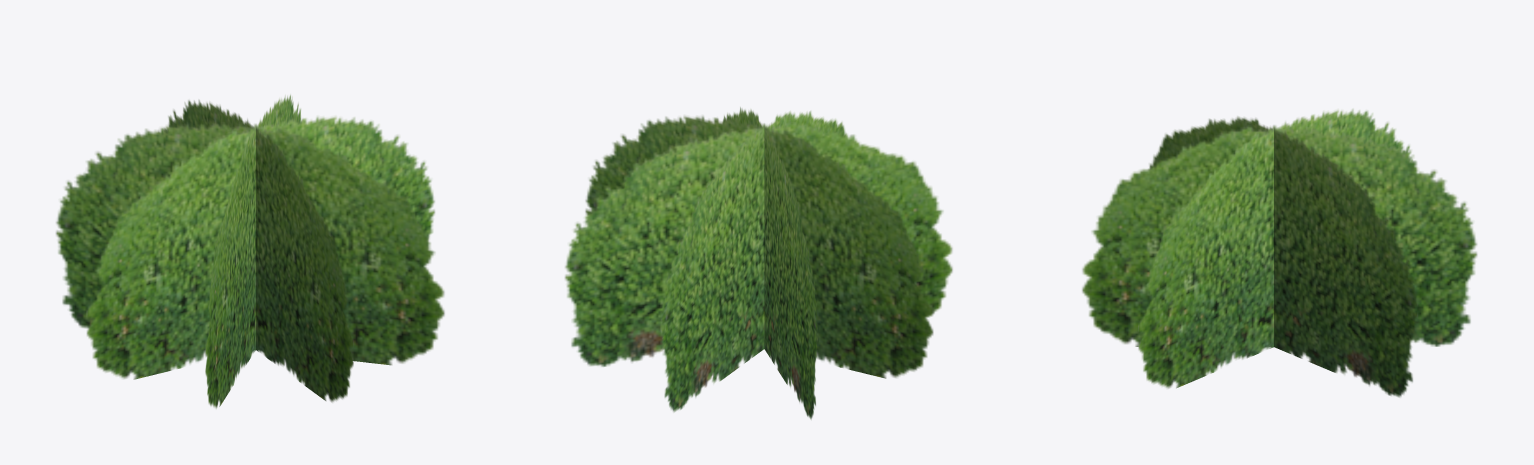
The model's file is Bush_06.glb.
The picture shows the model from 3 angles, left to right: view 1: azimuth 30°, elevation 25°; view 2: azimuth 150°, elevation 25°; view 3: azimuth 270°, elevation 25°; orthographic projection.
Visible parts, largest first — view 1: Bush 06; view 2: Bush 06; view 3: Bush 06.
Part boxes in pixels (left/top/right/bottom): Bush 06: left=55, top=94, right=444, bottom=408; Bush 06: left=564, top=107, right=952, bottom=419; Bush 06: left=1082, top=109, right=1477, bottom=397.
Size of what is drawn, in the model's own units: 2.1 by 1.1 by 2.1.
Materials: 1 (1 with a texture image).
